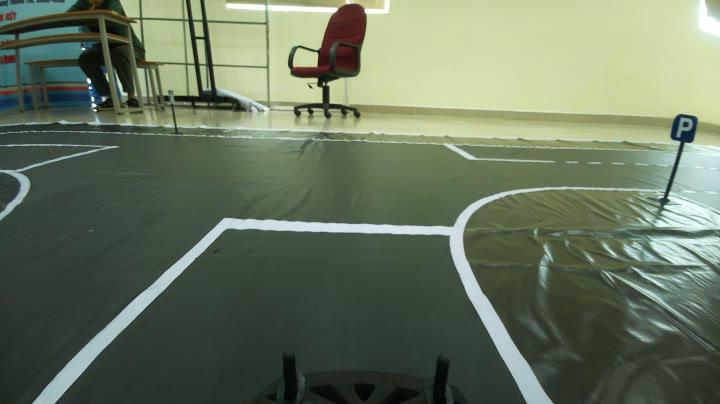parking: (668, 111, 700, 146)
